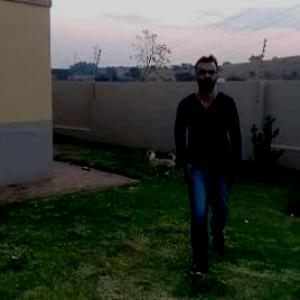follow: (176, 60, 234, 238)
